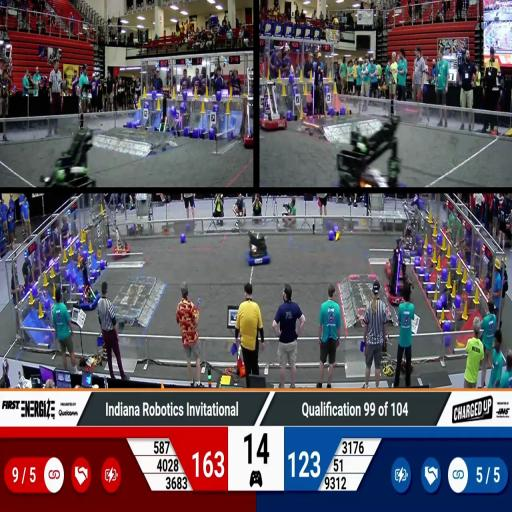robot: (328, 124, 408, 190), (38, 127, 94, 186), (386, 243, 414, 306), (260, 79, 291, 132), (77, 258, 106, 310), (303, 62, 327, 123), (152, 86, 176, 137), (397, 199, 418, 257), (384, 237, 410, 278), (246, 231, 274, 264), (244, 65, 254, 148), (110, 225, 130, 258)
